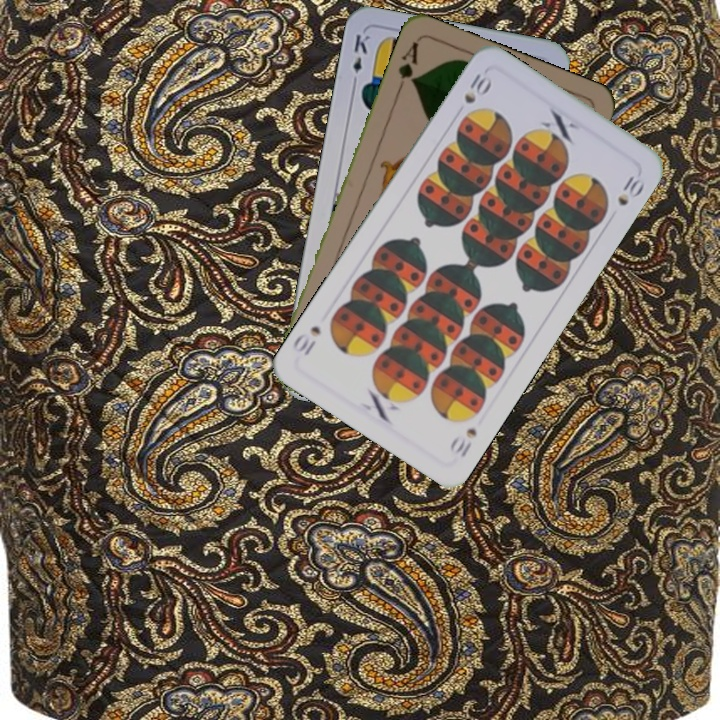EK: (348, 30, 372, 89)
GA: (393, 37, 421, 95)
S10: (460, 69, 493, 107), (452, 423, 480, 460)
